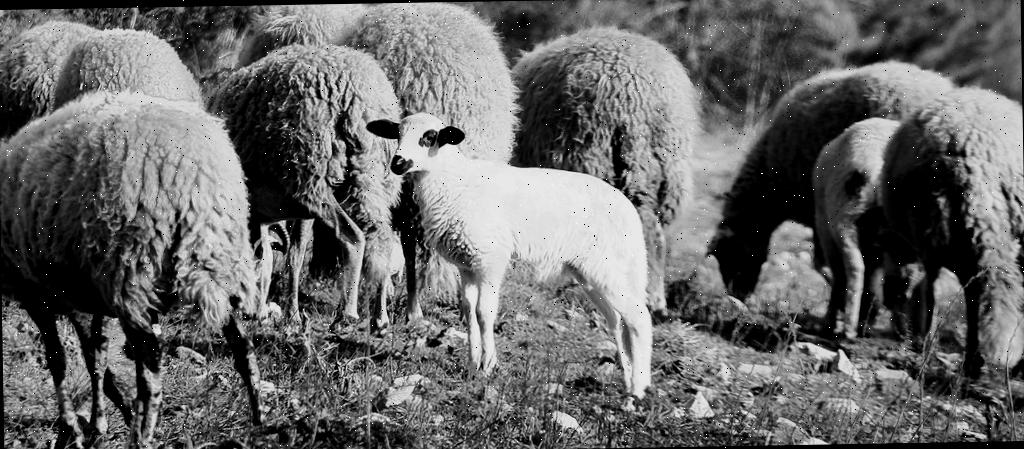Sheep: (0, 82, 277, 444), (379, 98, 669, 397), (694, 32, 958, 327), (332, 0, 528, 319), (520, 0, 704, 314), (205, 17, 378, 326), (863, 68, 1024, 355), (50, 23, 210, 275), (808, 106, 942, 361)
